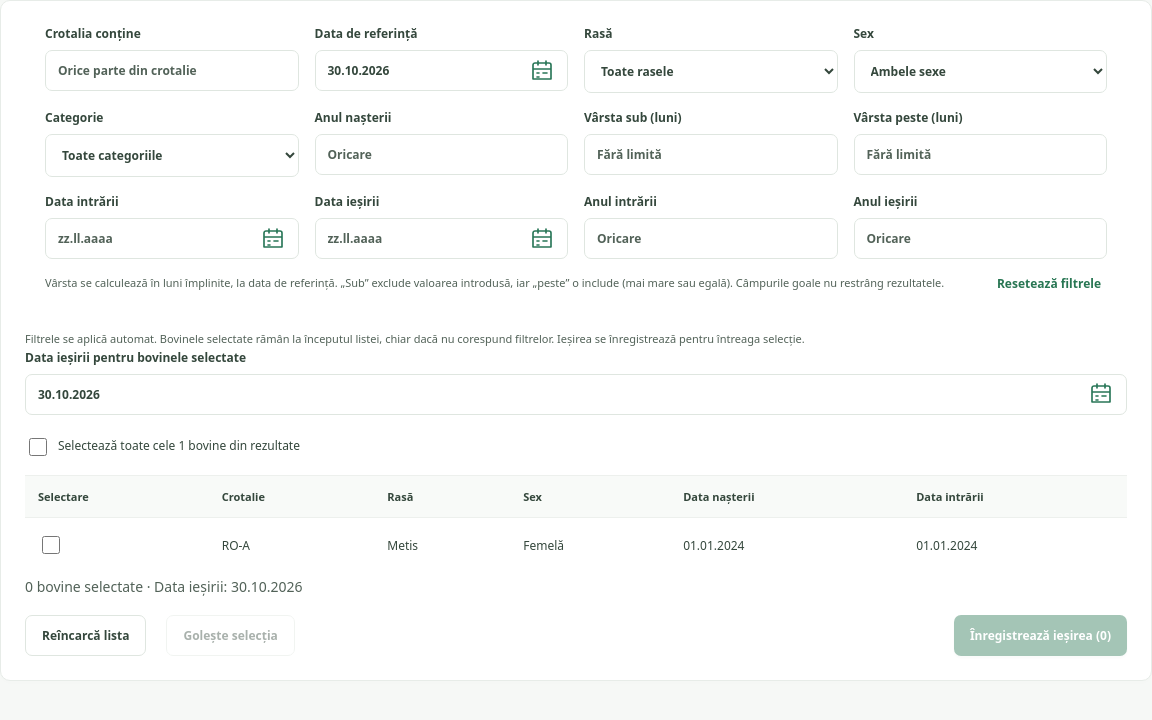
herd exit screen › keeps the selection but prevents submitting after a filter query fails
Click the checkbox named "Selectează RO-A" at [51, 545], box [42,536,60,554]
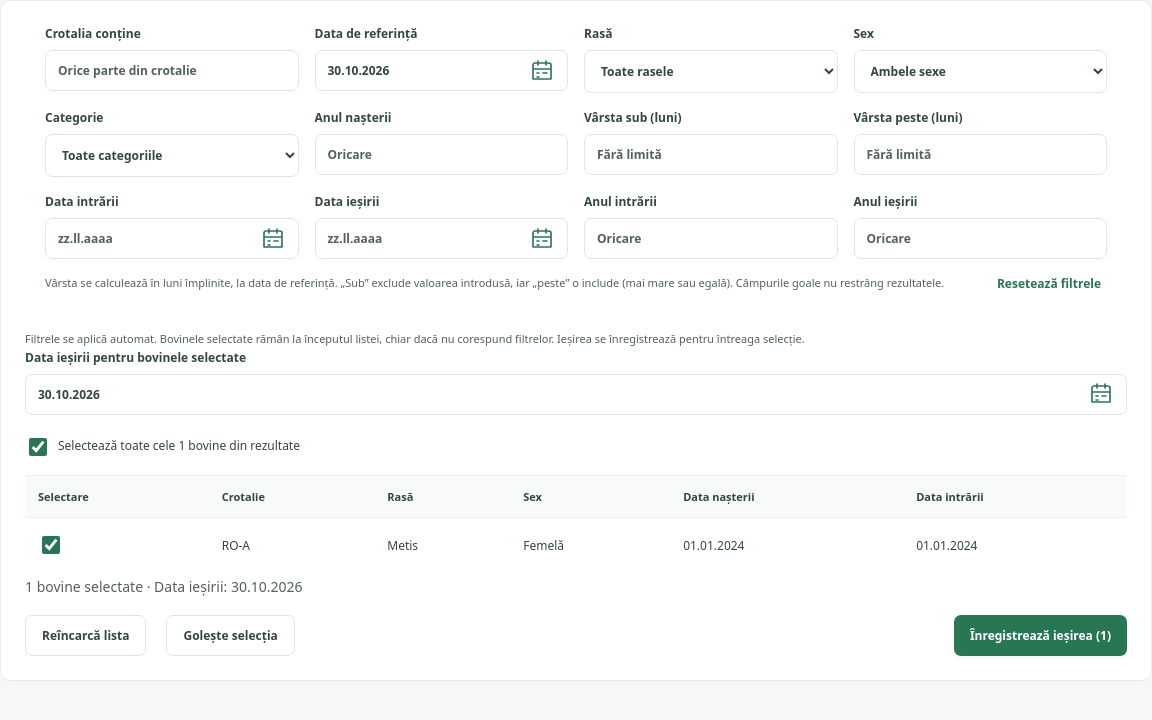
Type "missing" into the field with placeholder "Orice parte din crotalie" at [172, 70], box [45,50,298,91]
(page scrolled)
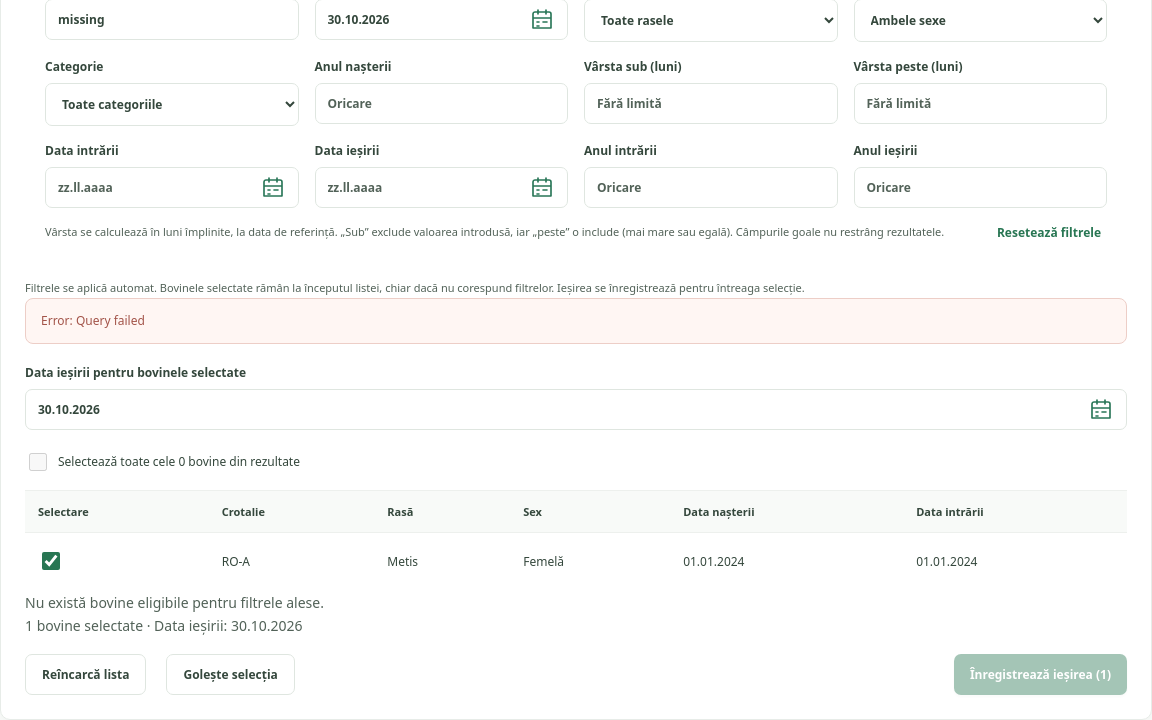
Check: the checkbox named "Selectează RO-A" is checked, box [42,552,60,570]
Check: the message reads "Error: Query failed", box [41,312,145,329]
Check: the button "Înregistrează ieșirea (1)" is disabled, box [954,654,1127,695]
